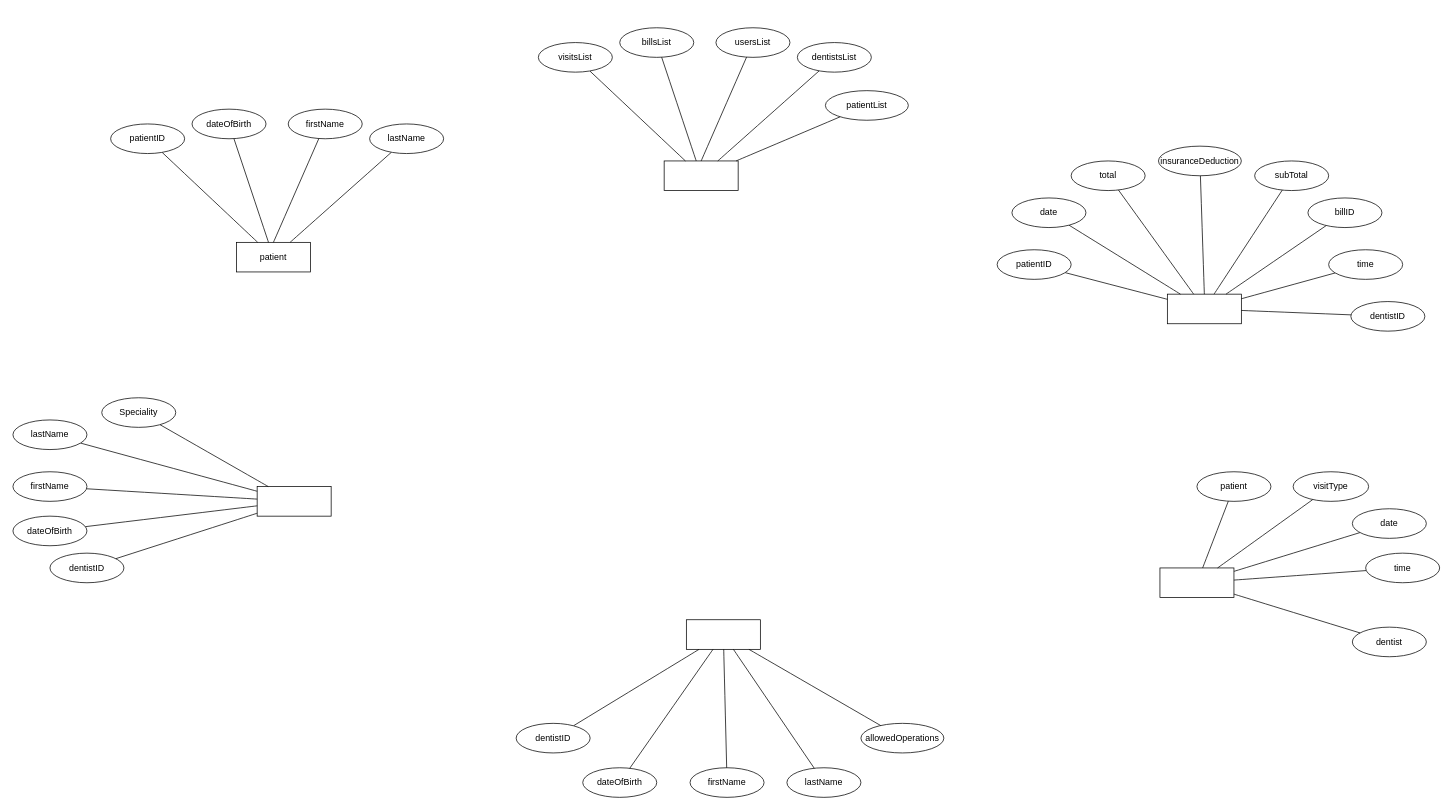
This 1456x810 diagram has some shape labels left out. The shapes that lost their labels are listed below. From the top down, each one's box as (x1, y1, x2, y2) in pixels, then its label:
(663, 160, 738, 191): Clinic System
(1167, 293, 1241, 324): Bill
(256, 486, 331, 516): regularDentist
(1159, 567, 1234, 598): Visit
(686, 619, 760, 649): apprenticeDentist
